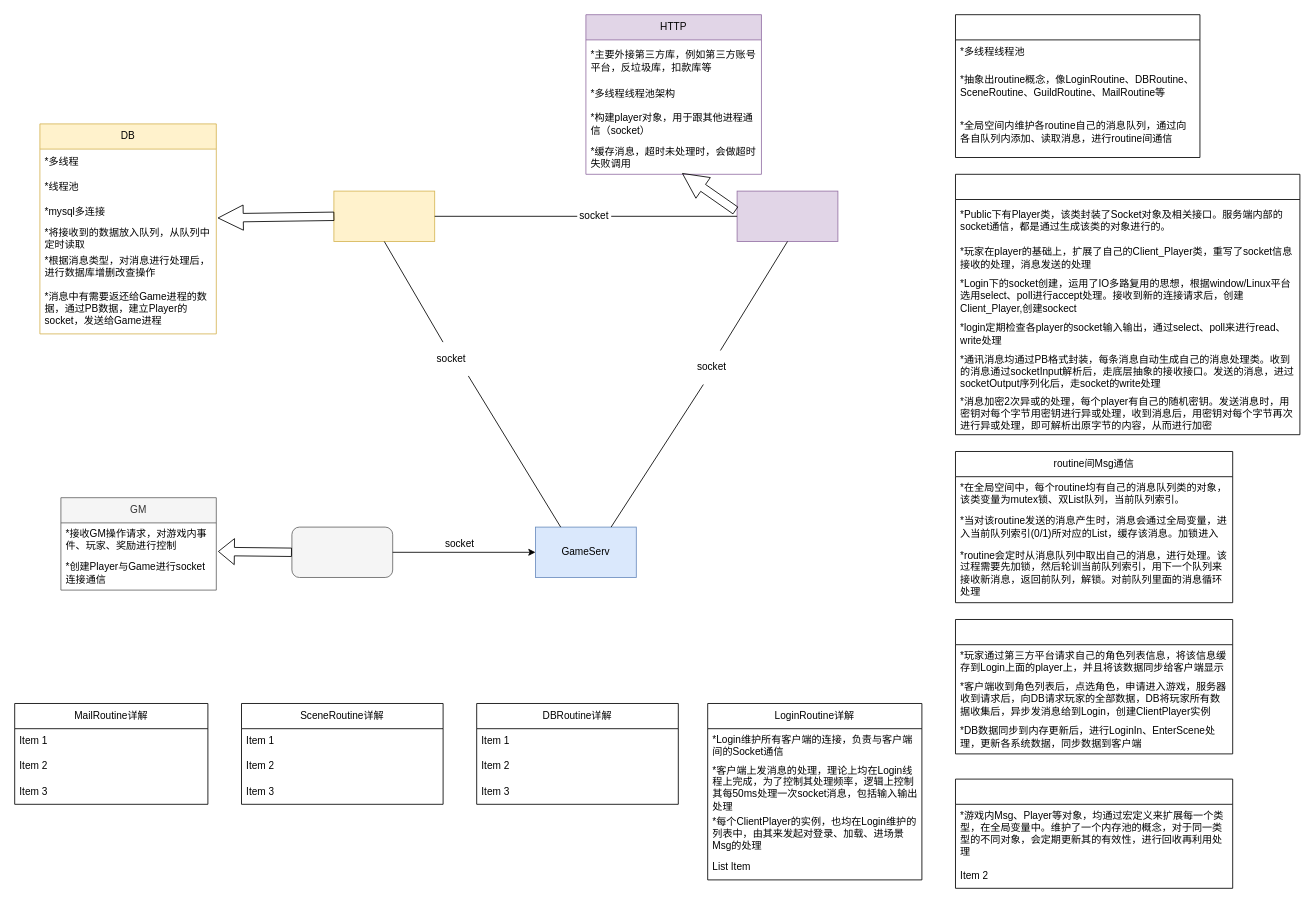
The diagram is 1315 pixels wide and 903 high, and some of its shapes have lost their labels. The box of each missing label's shape, as (x1, y1, x2, y2) in pixels:
DBServ: (333, 190, 435, 242)
Game整体架构: (955, 14, 1200, 158)
GMServ: (291, 526, 393, 578)
HTTPServ: (736, 190, 838, 242)
Socket管理: (955, 173, 1300, 435)
动态内存对象管理: (955, 778, 1233, 888)
玩家登录请求数据: (955, 619, 1233, 754)
